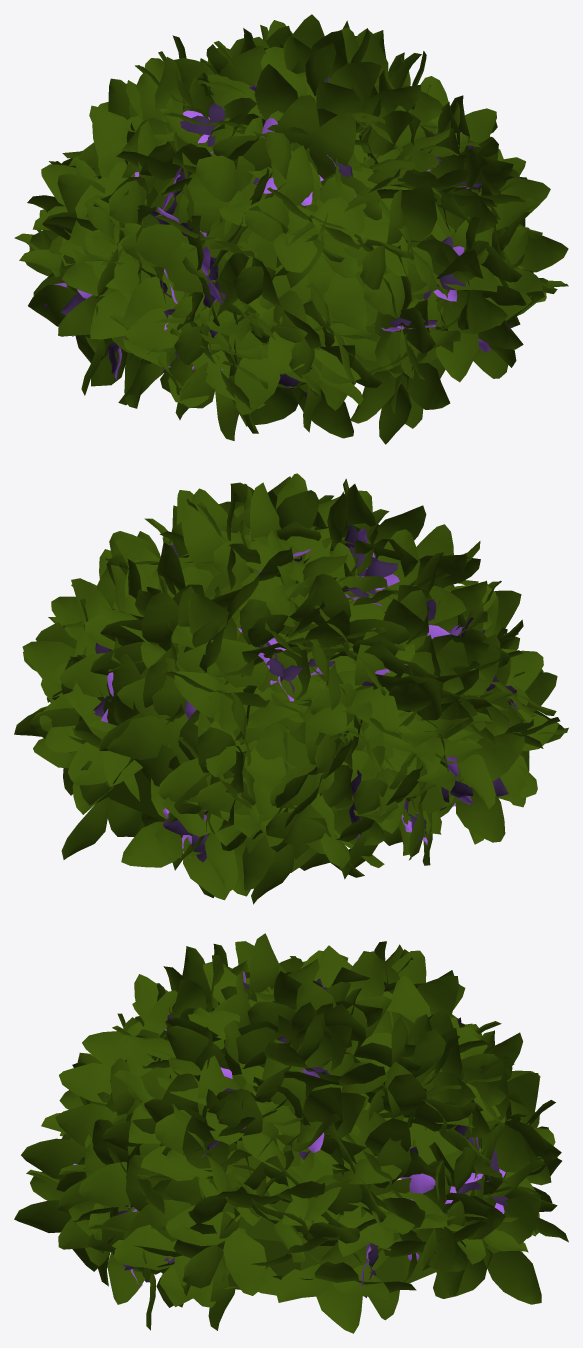
Rendered from flowerBush.fbx.
3 renders of one model, top to bottom at view 1: azimuth 30°, elevation 25°; view 2: azimuth 150°, elevation 25°; view 3: azimuth 270°, elevation 25°, orthographic.
Parts seen in each view (by area): view 1: FlowerBush, FlowerBush|Leaf|Dupli|274, FlowerBush|Leaf|Dupli|271, FlowerBush|Leaf|Dupli|56, FlowerBush|Leaf|Dupli|249, FlowerBush|Leaf|Dupli|105, FlowerBush|Leaf|Dupli|226, FlowerBush|Leaf|Dupli|195, FlowerBush|Leaf|Dupli|39, FlowerBush|Leaf|Dupli|7, FlowerBush|Leaf|Dupli|30, FlowerBush|Leaf|Dupli|184 (+100 smaller); view 2: FlowerBush, FlowerBush|Leaf|Dupli|181, FlowerBush|Leaf|Dupli|87, FlowerBush|Leaf|Dupli|18, FlowerBush|Leaf|Dupli|177, FlowerBush|Leaf|Dupli|258, FlowerBush|Leaf|Dupli|93, FlowerBush|Leaf|Dupli|275, FlowerBush|Leaf|Dupli|156, FlowerBush|Leaf|Dupli|42, FlowerBush|Leaf|Dupli|171, FlowerBush|Leaf|Dupli|154 (+106 smaller); view 3: FlowerBush, FlowerBush|Leaf|Dupli|177, FlowerBush|Leaf|Dupli|220, FlowerBush|Leaf|Dupli|161, FlowerBush|Leaf|Dupli|158, FlowerBush|Leaf|Dupli|174, FlowerBush|Leaf|Dupli|139, FlowerBush|Leaf|Dupli|155, FlowerBush|Leaf|Dupli|230, FlowerBush|Leaf|Dupli|62, FlowerBush|Leaf|Dupli|245, FlowerBush|Leaf|Dupli|45 (+100 smaller).
Boxes of the visible parts, box(x1,y1,x2,y2) form: FlowerBush: box(104, 116, 455, 388); FlowerBush|Leaf|Dupli|274: box(259, 205, 384, 330); FlowerBush|Leaf|Dupli|271: box(121, 174, 222, 291); FlowerBush|Leaf|Dupli|56: box(255, 112, 381, 220); FlowerBush|Leaf|Dupli|249: box(242, 331, 355, 438); FlowerBush|Leaf|Dupli|105: box(379, 300, 450, 444); FlowerBush|Leaf|Dupli|226: box(364, 233, 448, 378); FlowerBush|Leaf|Dupli|195: box(245, 145, 314, 267); FlowerBush|Leaf|Dupli|39: box(311, 167, 408, 276); FlowerBush|Leaf|Dupli|7: box(212, 95, 319, 170); FlowerBush|Leaf|Dupli|30: box(199, 306, 308, 414); FlowerBush|Leaf|Dupli|184: box(247, 151, 378, 277); FlowerBush: box(110, 569, 470, 830); FlowerBush|Leaf|Dupli|181: box(437, 732, 524, 842); FlowerBush|Leaf|Dupli|87: box(121, 778, 229, 900); FlowerBush|Leaf|Dupli|18: box(106, 657, 186, 760); FlowerBush|Leaf|Dupli|177: box(61, 760, 143, 859); FlowerBush|Leaf|Dupli|258: box(211, 629, 317, 744); FlowerBush|Leaf|Dupli|93: box(90, 592, 178, 675); FlowerBush|Leaf|Dupli|275: box(161, 504, 222, 598); FlowerBush|Leaf|Dupli|156: box(298, 574, 410, 644); FlowerBush|Leaf|Dupli|42: box(196, 722, 285, 865); FlowerBush|Leaf|Dupli|171: box(68, 682, 139, 801); FlowerBush|Leaf|Dupli|154: box(174, 671, 240, 777); FlowerBush: box(125, 1033, 486, 1289); FlowerBush|Leaf|Dupli|177: box(433, 1194, 541, 1304); FlowerBush|Leaf|Dupli|220: box(165, 1182, 266, 1295); FlowerBush|Leaf|Dupli|161: box(182, 1186, 240, 1330); FlowerBush|Leaf|Dupli|158: box(166, 1025, 278, 1075); FlowerBush|Leaf|Dupli|174: box(113, 1224, 215, 1307); FlowerBush|Leaf|Dupli|139: box(123, 1142, 241, 1282); FlowerBush|Leaf|Dupli|155: box(276, 1264, 389, 1302); FlowerBush|Leaf|Dupli|230: box(480, 1063, 541, 1172); FlowerBush|Leaf|Dupli|62: box(377, 1073, 483, 1131); FlowerBush|Leaf|Dupli|245: box(258, 1237, 401, 1333); FlowerBush|Leaf|Dupli|45: box(404, 1160, 467, 1281).
Bounding box in the file's own units: 253 × 169 × 262.
